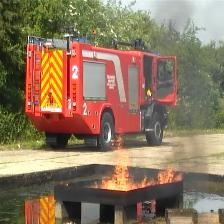fire: (101, 134, 156, 192), (157, 166, 183, 186)
